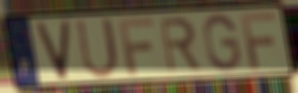F: (116, 16, 157, 77), (239, 10, 279, 71)
G: (202, 12, 243, 73)
R: (157, 15, 204, 75)
U: (74, 16, 121, 82)
V: (34, 18, 72, 83)
